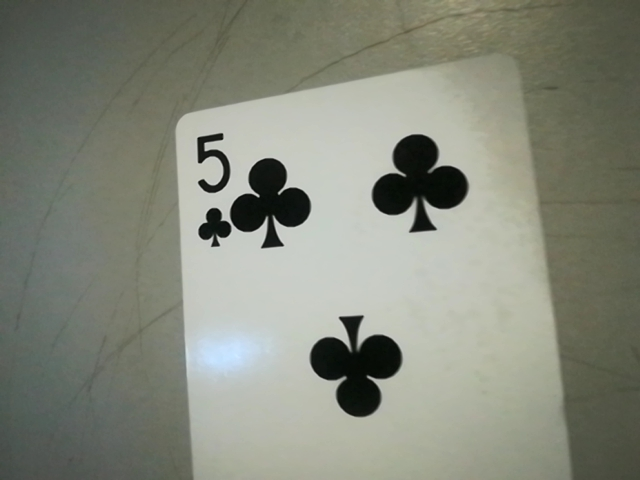mh 5: (179, 125, 234, 253)
